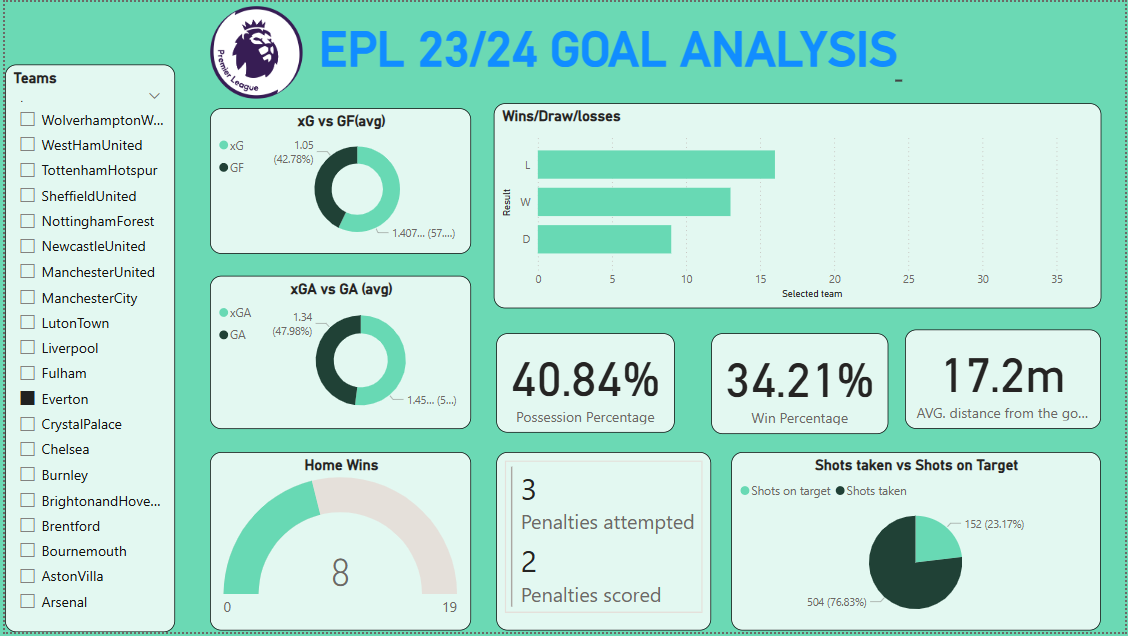

What the dashboard file says about the page in this screenshot:
{"tool":"powerbi","page":{"name":"Page 1","canvas":[1280,720],"ordinal":0},"visuals":[{"type":"textbox","title":"EPL 23/24 GOAL ANALYSIS","box":[348.6,20.8,681.9,75],"z":0},{"type":"image","box":[225,0,123.6,115.3],"z":1000},{"type":"slicer","title":"Teams","fields":{"Values":["matches.Team"]},"box":[0,70.8,194.4,648.6],"z":2000},{"type":"barChart","title":"Wins/Draw/losses","fields":{"Category":["matches.Result"],"Y":["CountNonNull(matches.Team)"]},"box":[558.3,115.3,694.4,234.7],"z":3000},{"type":"card","fields":{"Values":["matches.metres"]},"box":[1029.2,373.6,223.6,113.9],"z":4000},{"type":"donutChart","title":"xG vs GF(avg)","fields":{"Y":["Avg(matches.Expected goals for)","Avg(matches.Goals for)"]},"box":[234.7,120.8,298.6,166.7],"z":5000},{"type":"donutChart","title":"xGA vs GA (avg)","fields":{"Y":["Avg(matches.Expected goals against)","Avg(matches.Goals against)"]},"box":[234.7,312.5,298.6,175],"z":6000},{"type":"card","fields":{"Values":["matches.Win Percentage"]},"box":[806.9,379.2,202.8,115.3],"z":7000},{"type":"gauge","fields":{"Y":["matches.home_wins"]},"box":[234.7,513.9,298.6,204.2],"z":9000},{"type":"card","fields":{"Values":["matches.posss"]},"box":[561.1,379.2,204.2,113.9],"z":10000},{"type":"multiRowCard","fields":{"Values":["Sum(matches.Penalties attempted)","Sum(matches.Penalties scored for)"]},"box":[561.1,513.9,245.8,204.2],"z":10001},{"type":"pieChart","title":"Shots taken vs Shots on Target","fields":{"Y":["Sum(matches.Shots on target)","Sum(matches.Shots taken)"]},"box":[830.6,513.9,422.2,204.2],"z":10002}]}

Visuals, with their boxes in screenshot pixels (x1, y1, x2, y2), scaled from the page's 1280x720 canvas onto the 1128x636 screenshot:
"EPL 23/24 GOAL ANALYSIS" textbox: 307 18 908 85
image: 198 0 307 102
"Teams" slicer: 0 63 171 635
"Wins/Draw/losses" barChart: 492 102 1104 309
card - matches.metres: 907 330 1104 431
"xG vs GF(avg)" donutChart: 207 107 470 254
"xGA vs GA (avg)" donutChart: 207 276 470 431
card - matches.Win Percentage: 711 335 890 437
gauge - matches.home_wins: 207 454 470 634
card - matches.posss: 494 335 674 436
multiRowCard - Sum(matches.Penalties attempted) x Sum(matches.Penalties scored for): 494 454 711 634
"Shots taken vs Shots on Target" pieChart: 732 454 1104 634
